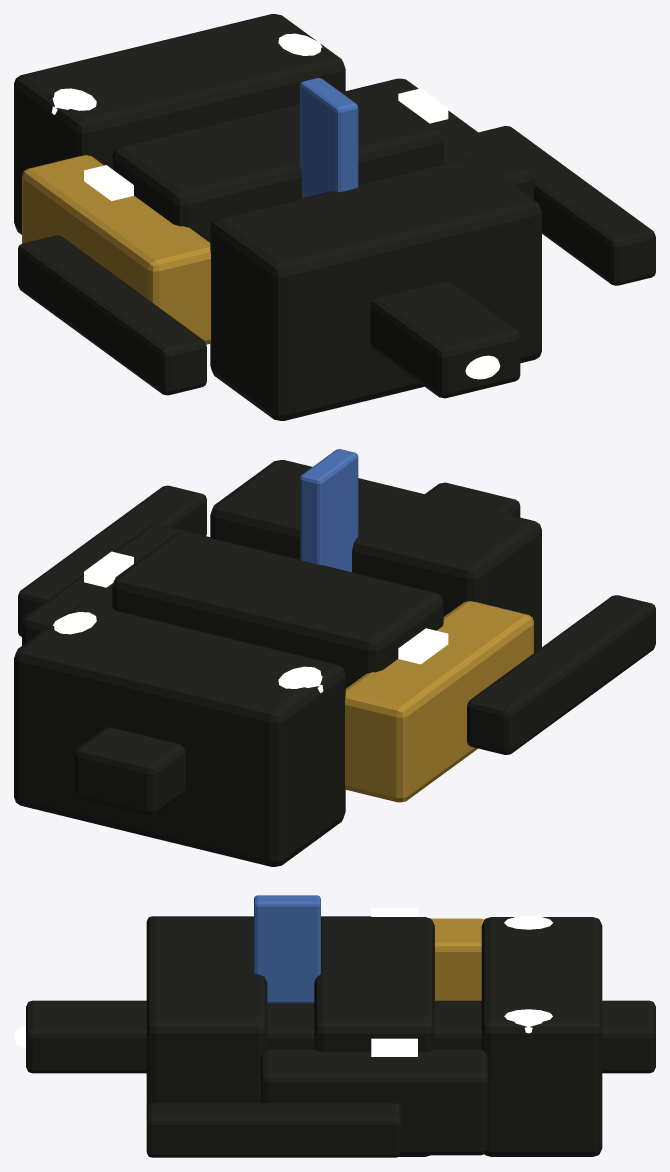
3 views of the same model, one above another, from view 1: azimuth 30°, elevation 25°; view 2: azimuth 150°, elevation 25°; view 3: azimuth 270°, elevation 25° (orthographic). The views are drawn at different scales.
Parts seen in each view (by area): view 1: RIMWARD_HULL, RIMWARD_EMISSIVE, RIMWARD_ENGINE_GLOW; view 2: RIMWARD_HULL, RIMWARD_EMISSIVE; view 3: RIMWARD_HULL, RIMWARD_EMISSIVE.
Part boxes in pixels (x1,y1,x2,y2): RIMWARD_HULL: (14,14,655,420); RIMWARD_EMISSIVE: (51,33,448,201); RIMWARD_ENGINE_GLOW: (465,355,500,379); RIMWARD_HULL: (14,449,655,866); RIMWARD_EMISSIVE: (52,551,448,692); RIMWARD_HULL: (26,895,655,1157); RIMWARD_EMISSIVE: (371,907,552,1056).
Bounding box in the file's own units: 61.71 × 28.81 × 81.43.
